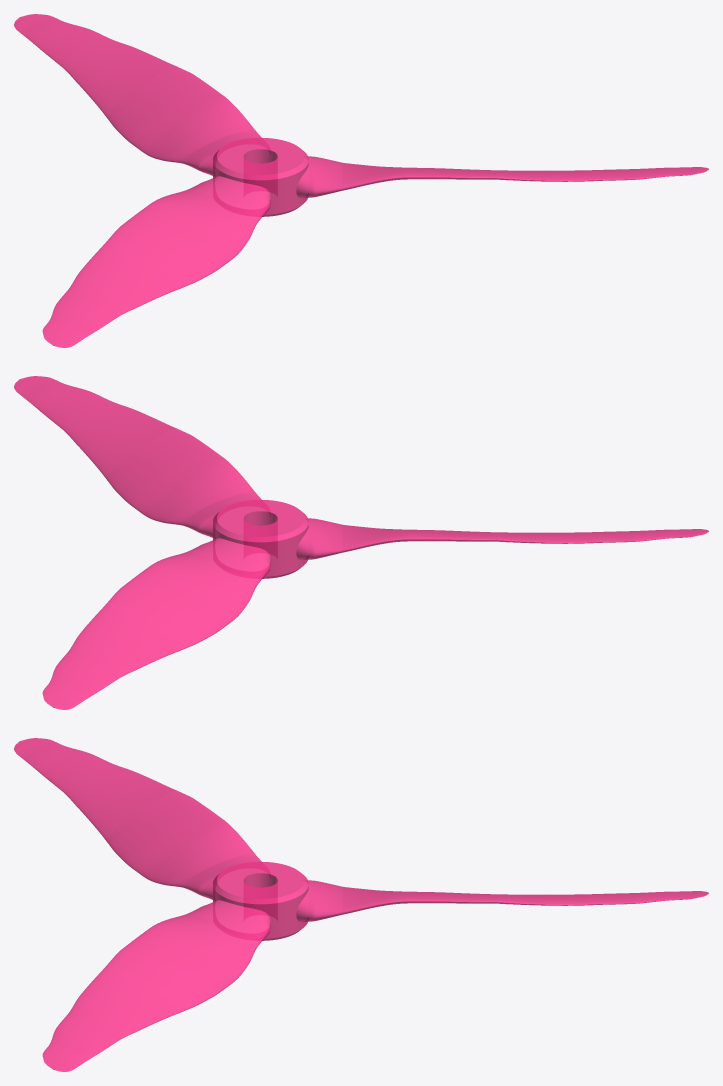
The model's file is studio-prop.glb.
The picture shows the model from 3 angles, top to bottom: view 1: azimuth 30°, elevation 25°; view 2: azimuth 150°, elevation 25°; view 3: azimuth 270°, elevation 25°; orthographic projection.
Parts seen in each view (by area): view 1: Propeller CW; view 2: Propeller CW; view 3: Propeller CW.
Boxes of the visible parts, x1=… form: Propeller CW: x1=14, y1=14, x2=708, y2=347; Propeller CW: x1=14, y1=376, x2=708, y2=709; Propeller CW: x1=14, y1=738, x2=708, y2=1071.
Bounding box in the file's own units: 0.1146 × 0.0068 × 0.1021.
